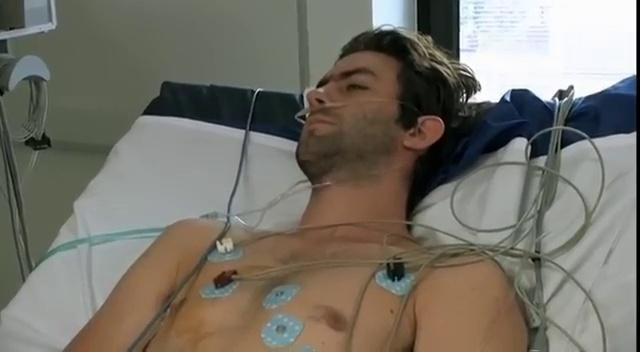patient: (56, 24, 533, 351)
